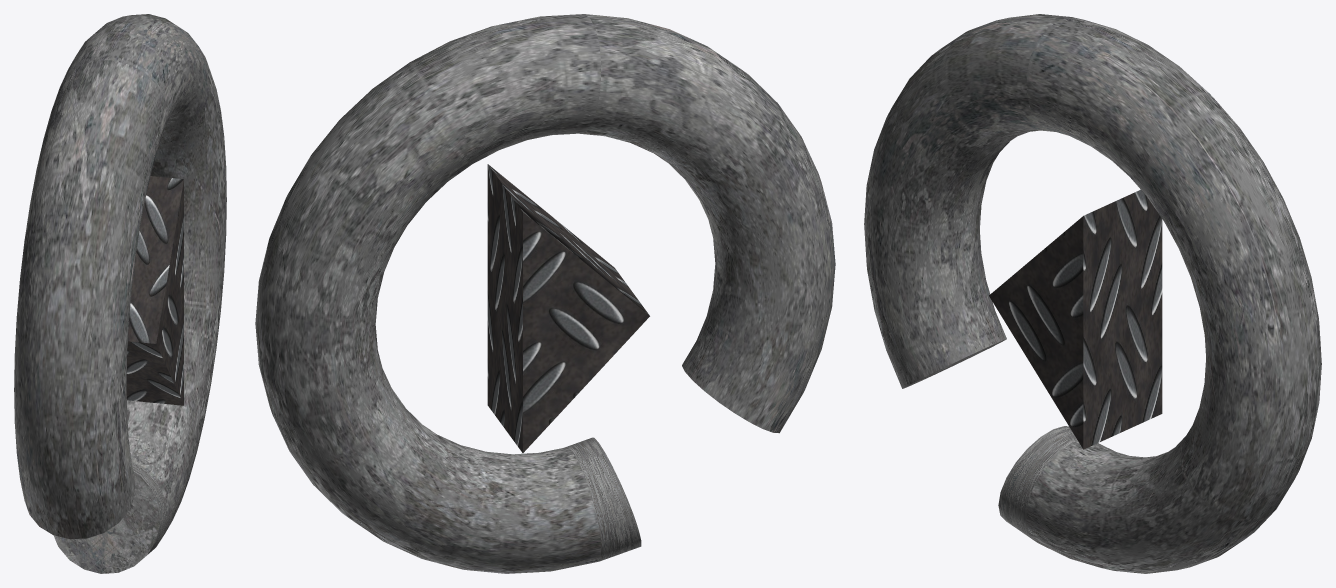
File: PlayButtonv3.fbx
The picture shows the model from 3 angles, left to right: view 1: azimuth 30°, elevation 25°; view 2: azimuth 150°, elevation 25°; view 3: azimuth 270°, elevation 25°; orthographic projection. The views are drawn at different scales.
Visible parts, largest first — view 1: Torus; view 2: Torus; view 3: Torus.
Part boxes in pixels (x1=…): Torus: x1=14, y1=14, x2=226, y2=573; Torus: x1=255, y1=14, x2=835, y2=573; Torus: x1=864, y1=14, x2=1321, y2=573.
Bounding box in the file's own units: 199 × 268 × 210.
